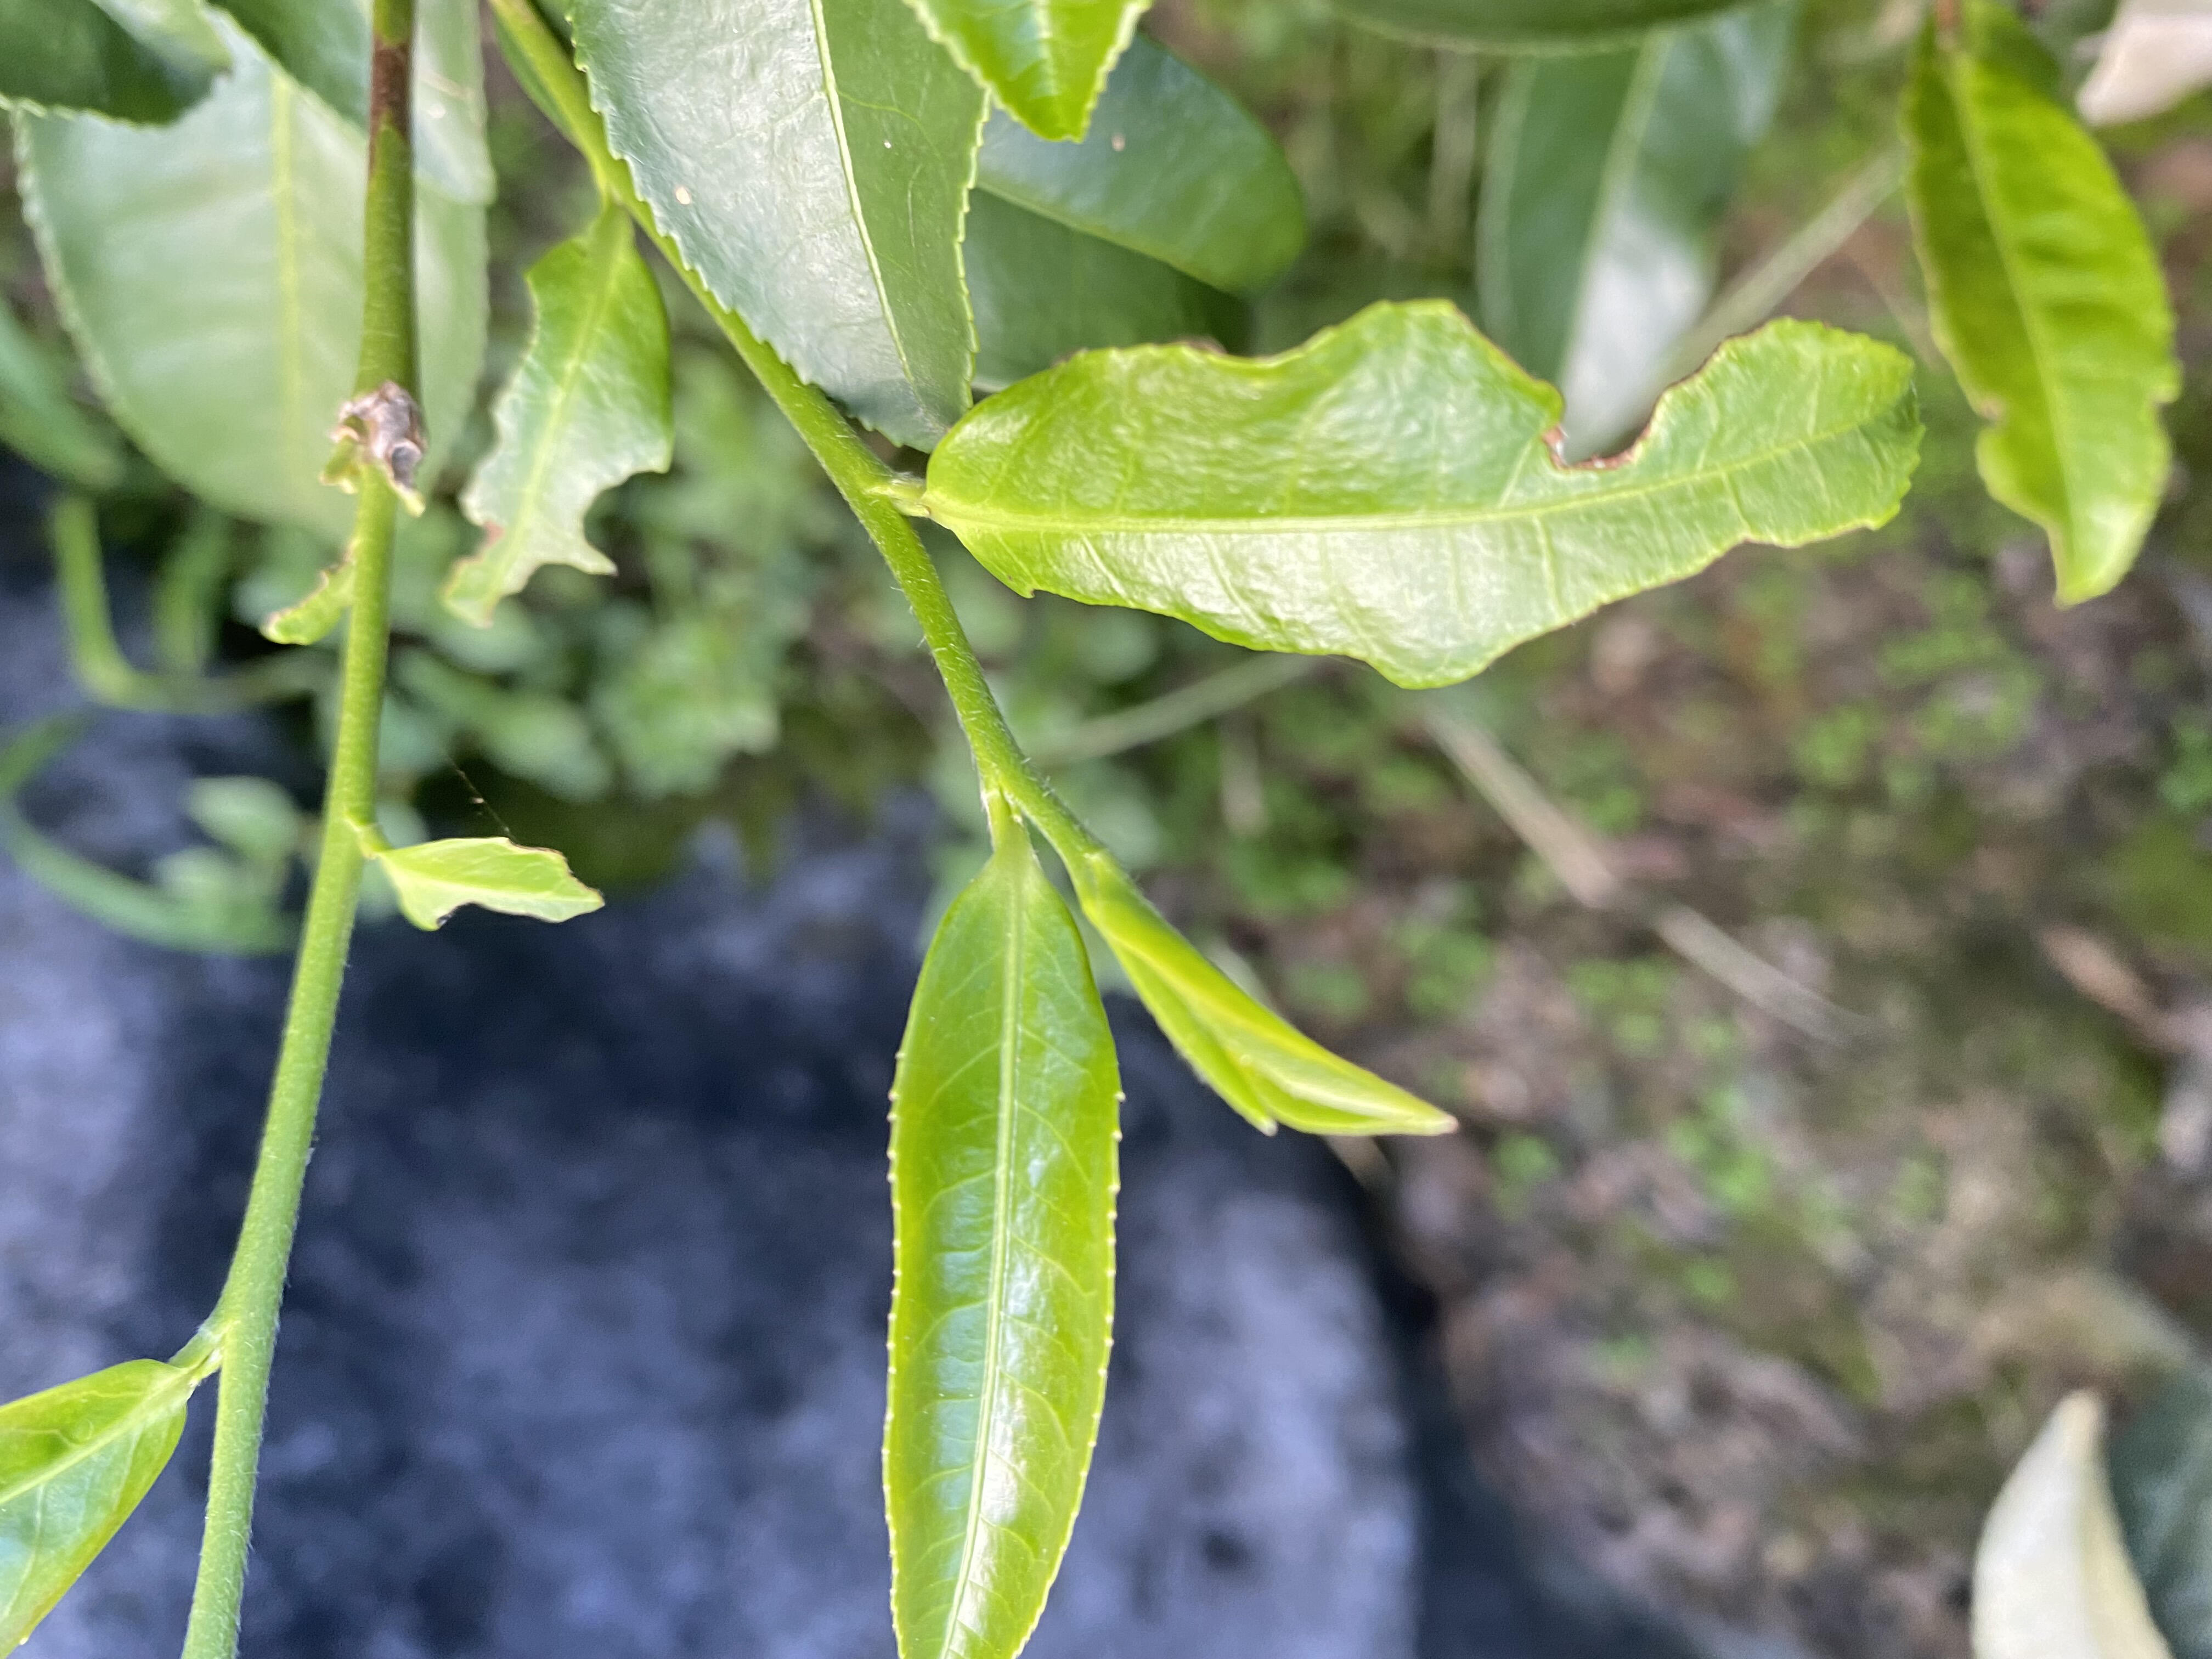chihuo_high: (932, 296, 1928, 694), (434, 216, 685, 631), (374, 831, 613, 938)
healthy: (878, 857, 1130, 1659)
